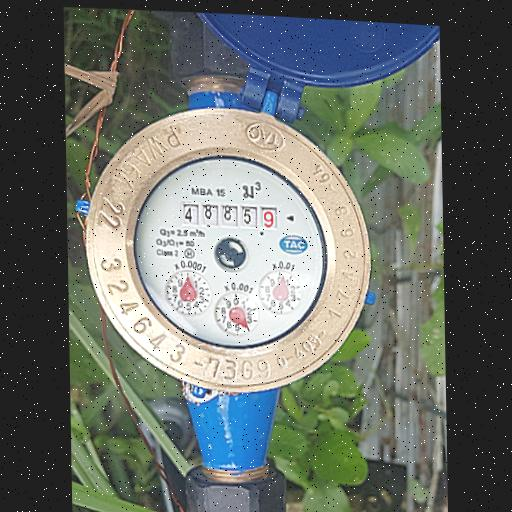4: (185, 202, 198, 224)
5: (244, 207, 257, 227)
8: (223, 204, 237, 227), (203, 205, 217, 224)
9: (263, 209, 276, 229)
border_water_meter_number: (178, 196, 282, 236)
